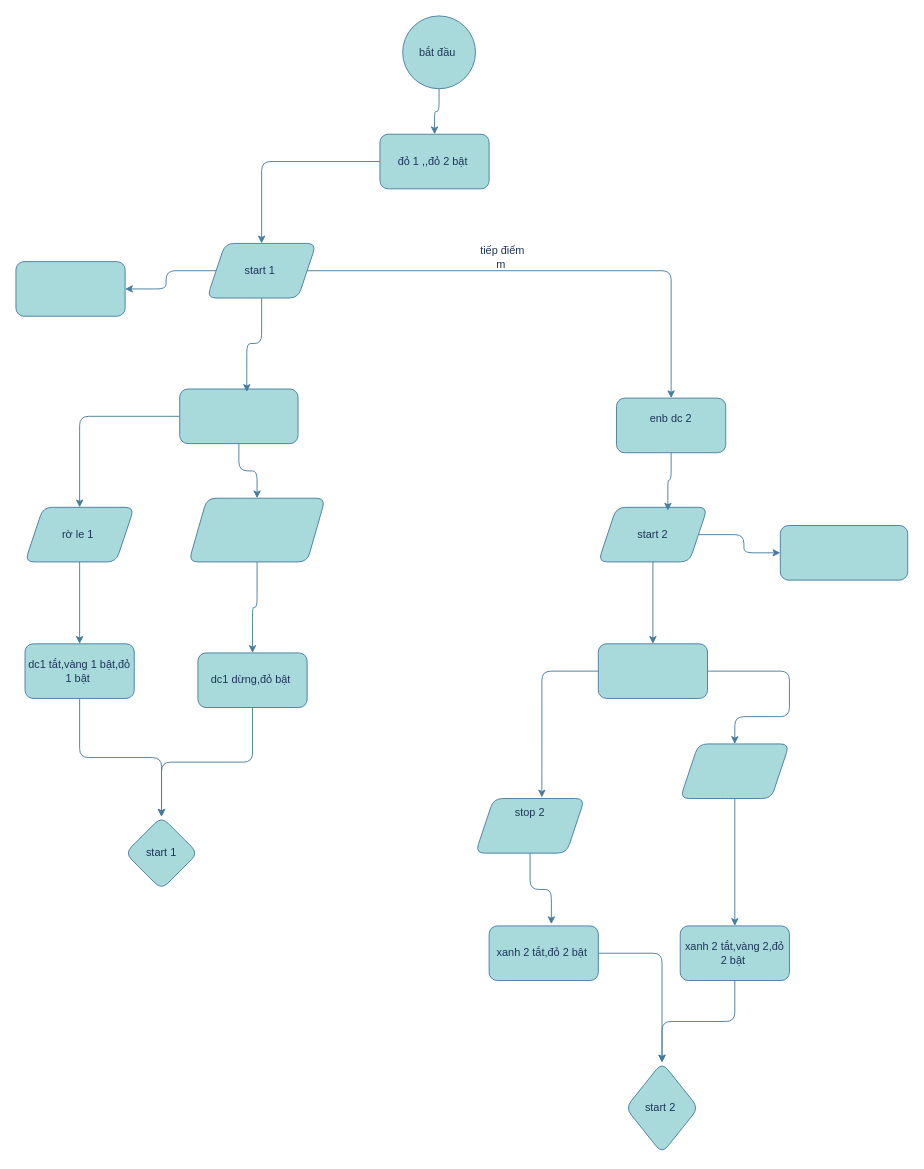
Some shapes in this 924 by 1169 pixel diagram are drawn without their labels. The shapes that lost their labels are listed below. From the top down, each one's centre as x and y in pixels, then its label:
At point (70, 288): "tắt vàng 1 ,đỏ 1".
At point (238, 416): "chạy dc 1,bật xanh".
At point (256, 529): "stop 1".
At point (843, 552): "tắt đỏ 2 ,vàng 2".
At point (652, 670): "dc2 chạy ,xanh 2 bật".
At point (734, 771): "rờ le 2".
